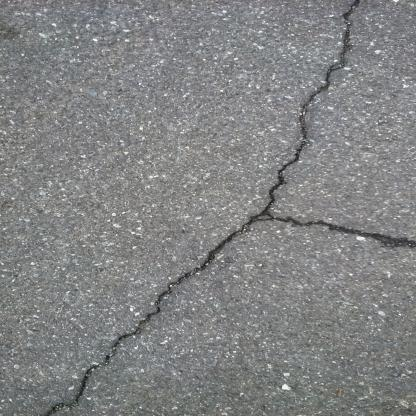Cracks: (32, 0, 379, 415), (246, 204, 416, 255)
